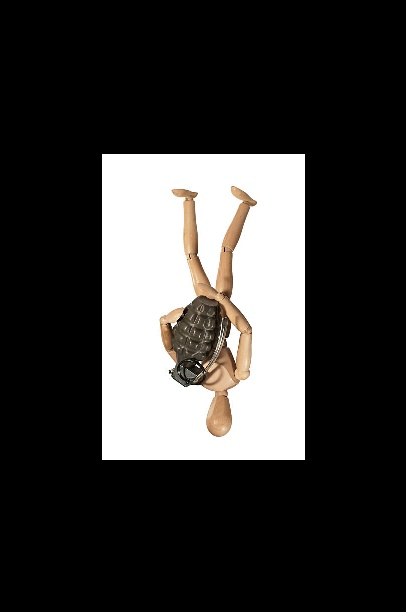e1: (165, 295, 230, 390)
